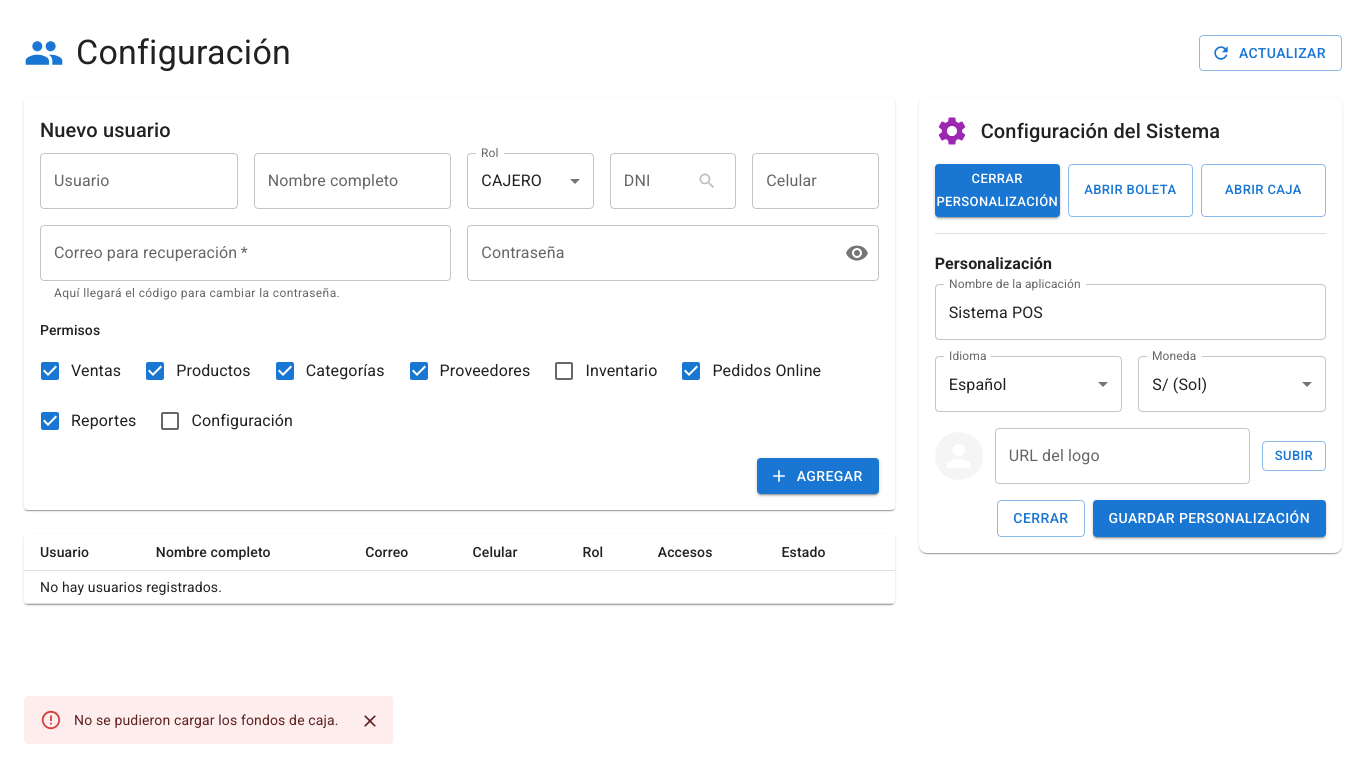
Test case: ConfiguracionPage usuarios y permisos › crea un usuario cajero con permisos seleccionados
Expected: the text "No hay usuarios registrados." is shown, [24,571,895,604]
Step 1. Type "caja02" into the field labelled "Usuario" → (139, 181), box [40,153,238,209]
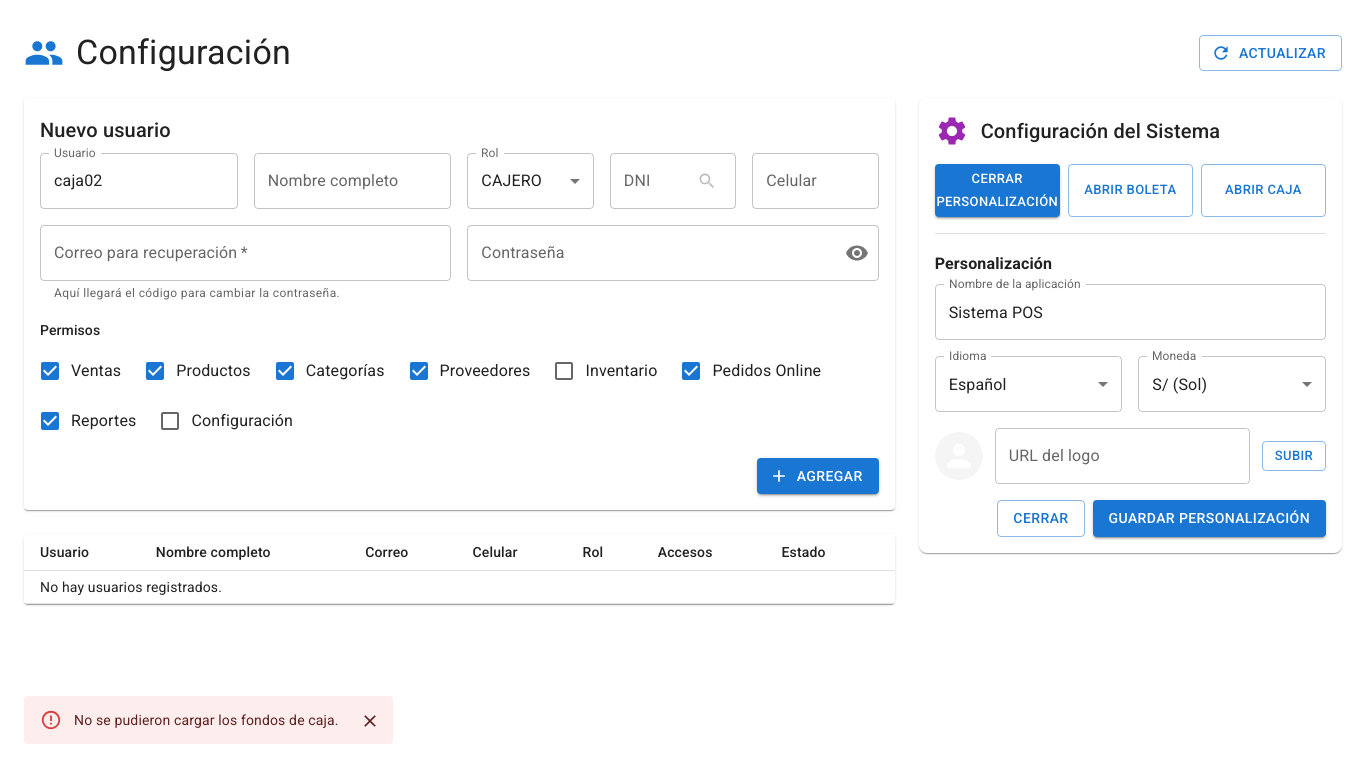
Step 2. Type "Caja Dos" into the field labelled "Nombre completo" → (353, 181), box [254,153,451,209]
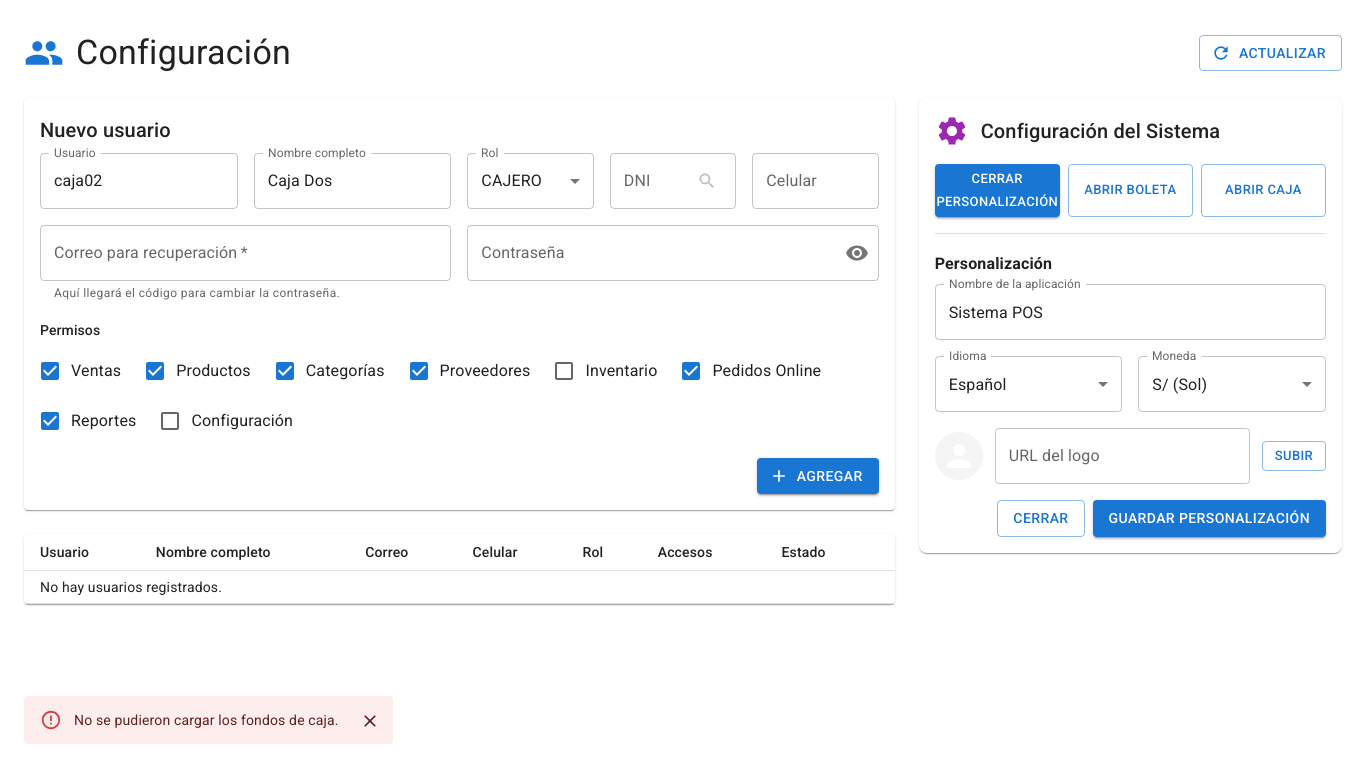
Step 3. Type "Clave123" into the password field labelled "Contraseña" → (648, 253), box [467,225,829,281]
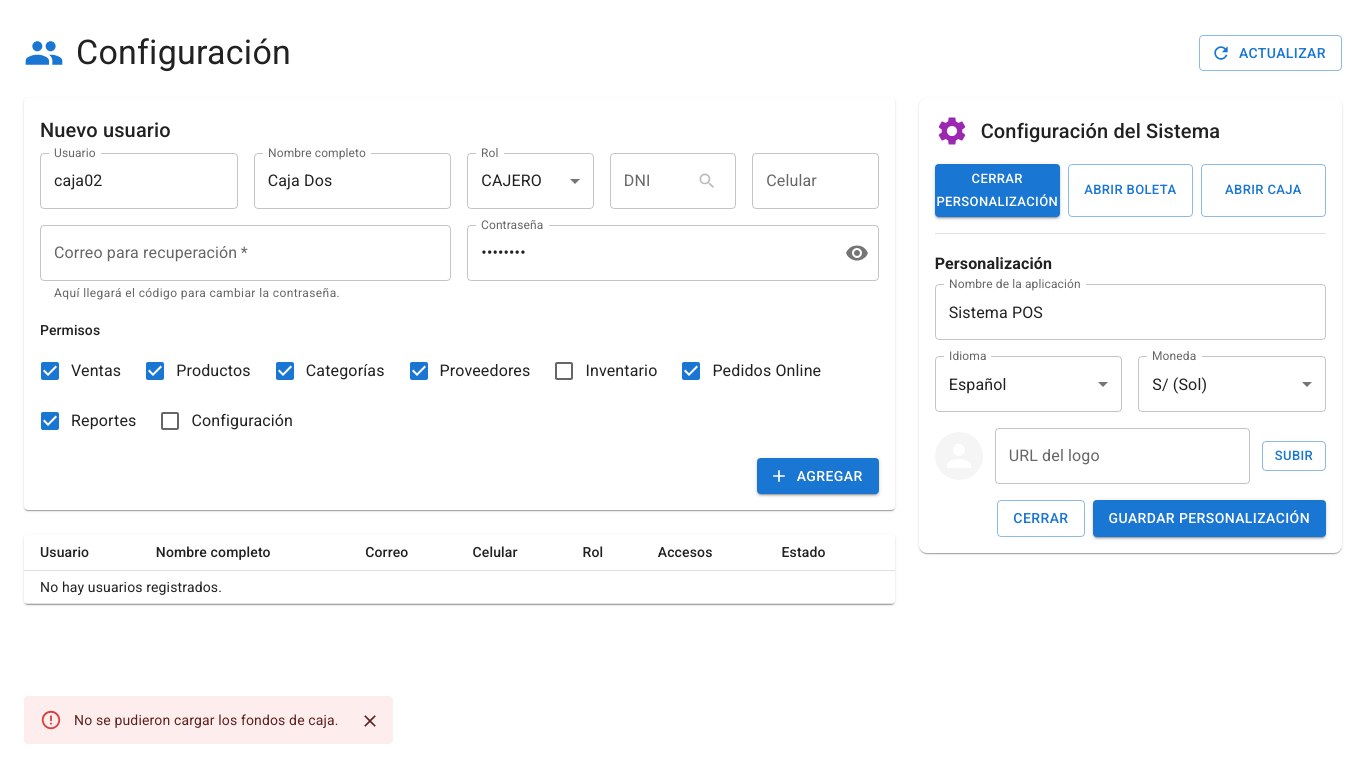
Step 4. Type "caja02@test.com" into the field labelled "Correo para recuperación *" → (246, 253), box [40,225,451,281]
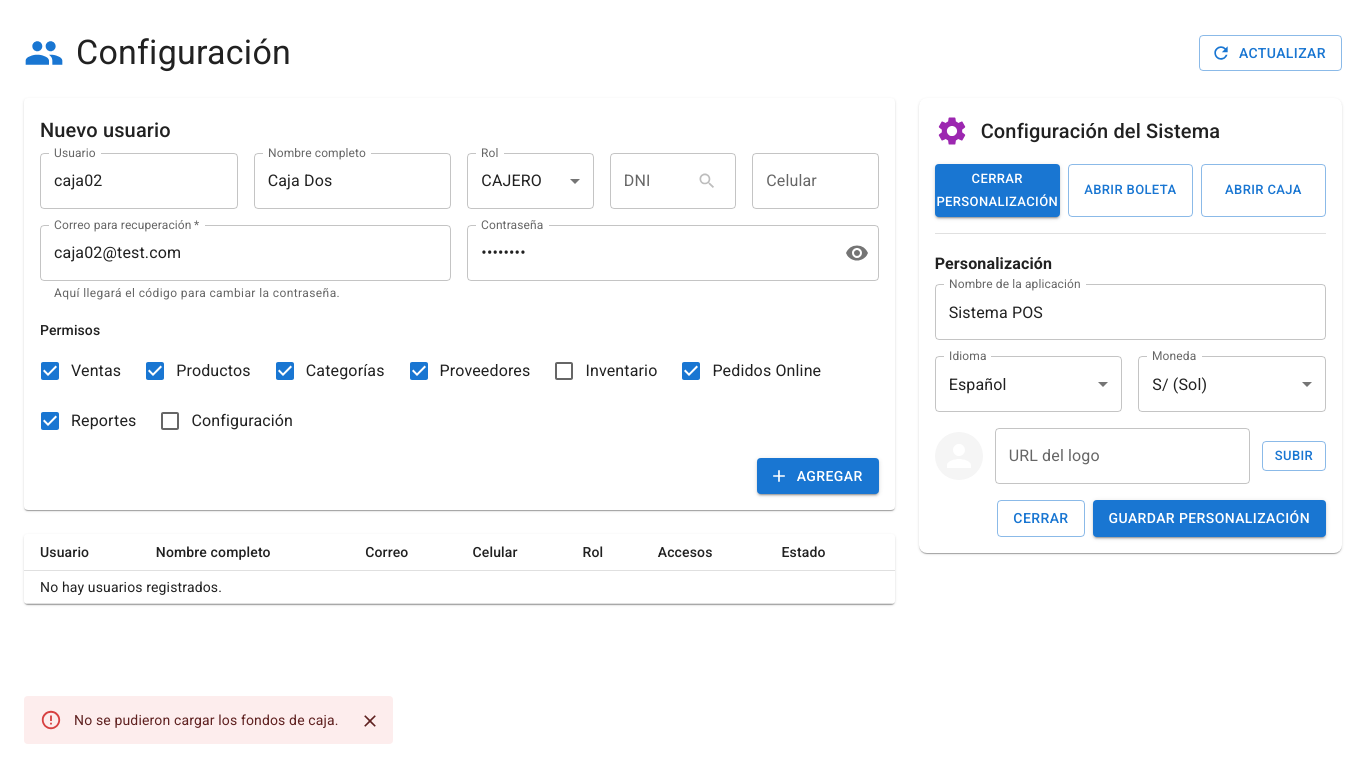
Step 5. Click the button "Agregar" → (818, 476), box [757,458,879,494]
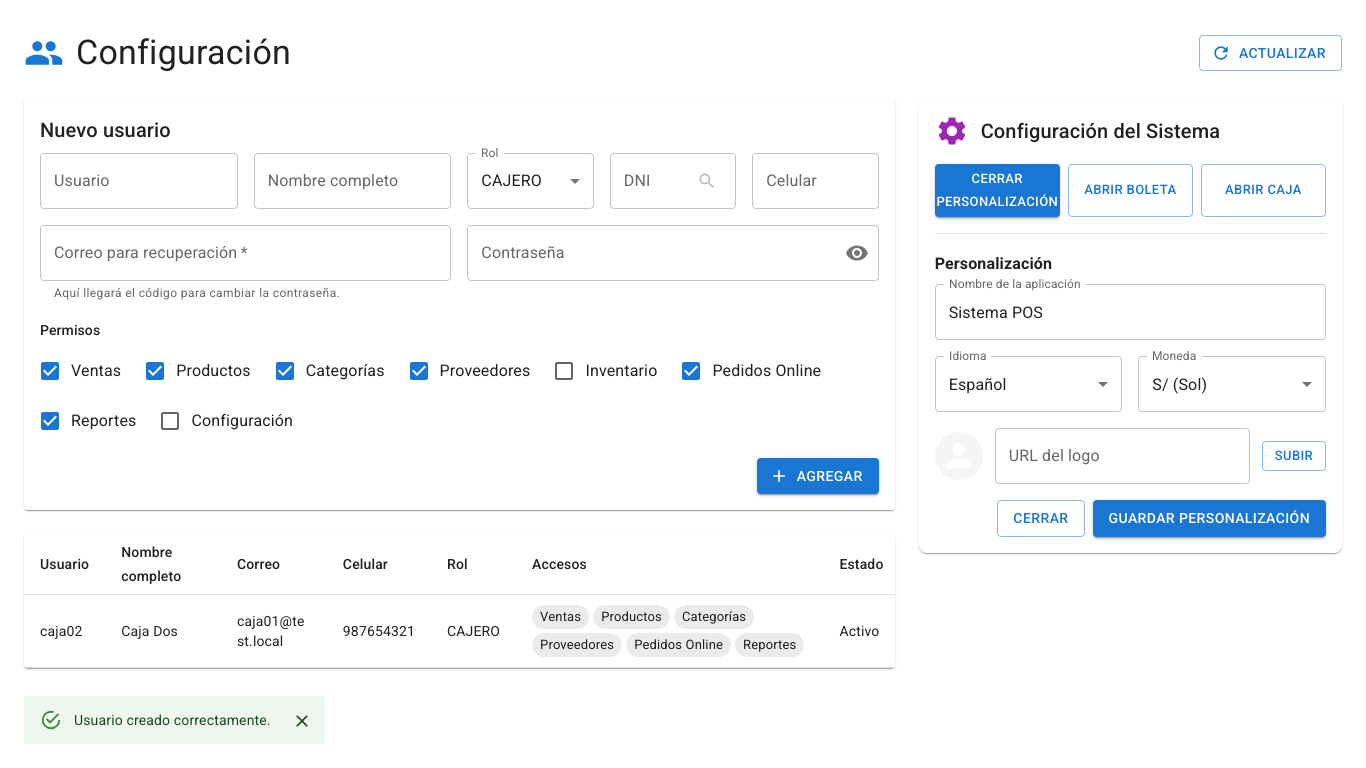
Expected: the text "Usuario creado correctamente." is shown, [74,712,271,728]
